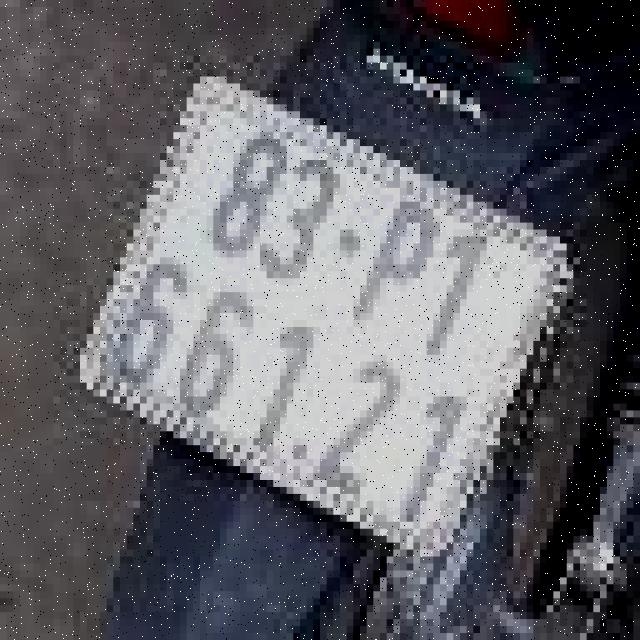1: (395, 214, 511, 382), (376, 376, 482, 542), (235, 301, 335, 471)
2: (303, 344, 424, 510)
3: (246, 136, 361, 303)
6: (151, 268, 270, 437), (94, 248, 211, 407)
8: (192, 111, 303, 273)
P: (337, 182, 457, 350)
